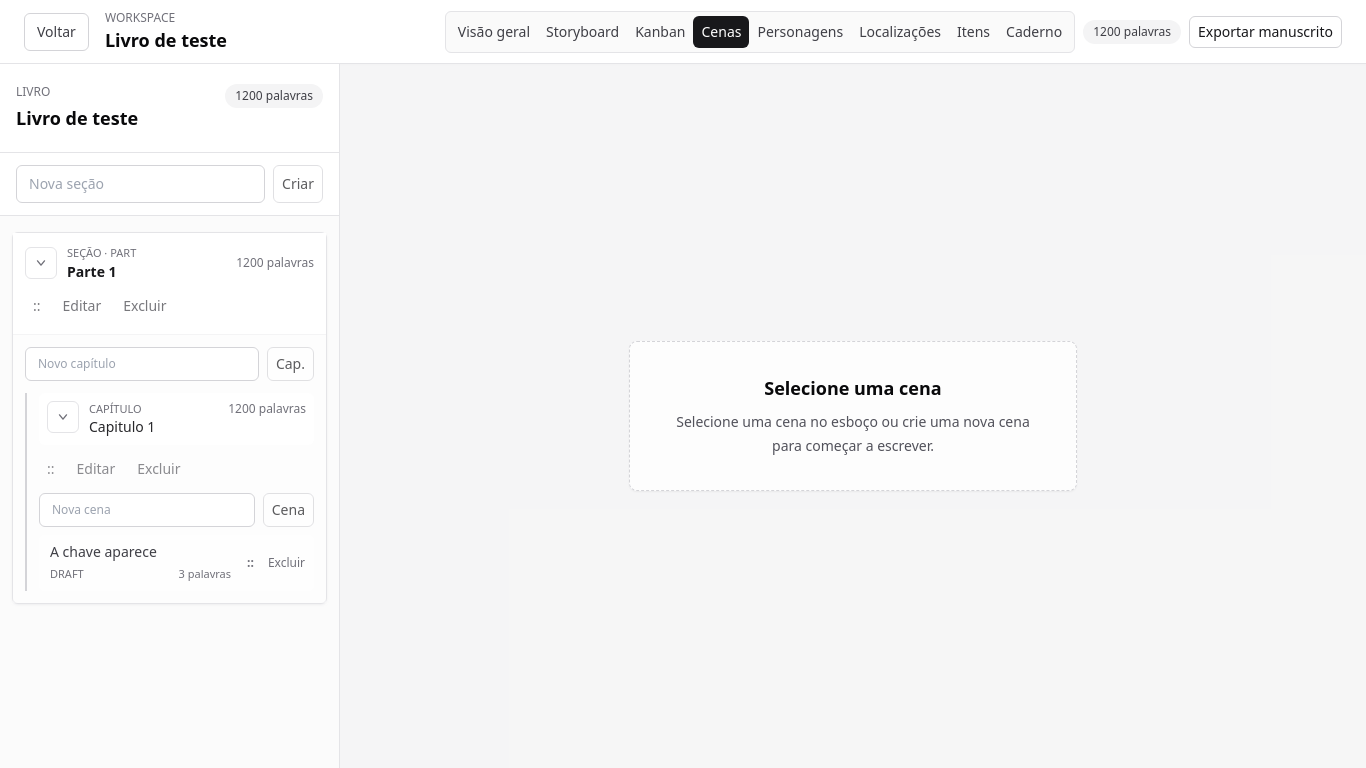
it: BookWorkspace focus mode › oculta o outline no foco e restaura mantendo a cena selecionada
The width and height of the screenshot is (1366, 768).
Expected: the text "Livro" is shown, [16,83,50,100]
Click the button "A chave aparece DRAFT 3 palavras".
click(140, 563)  # box [40,536,241,590]
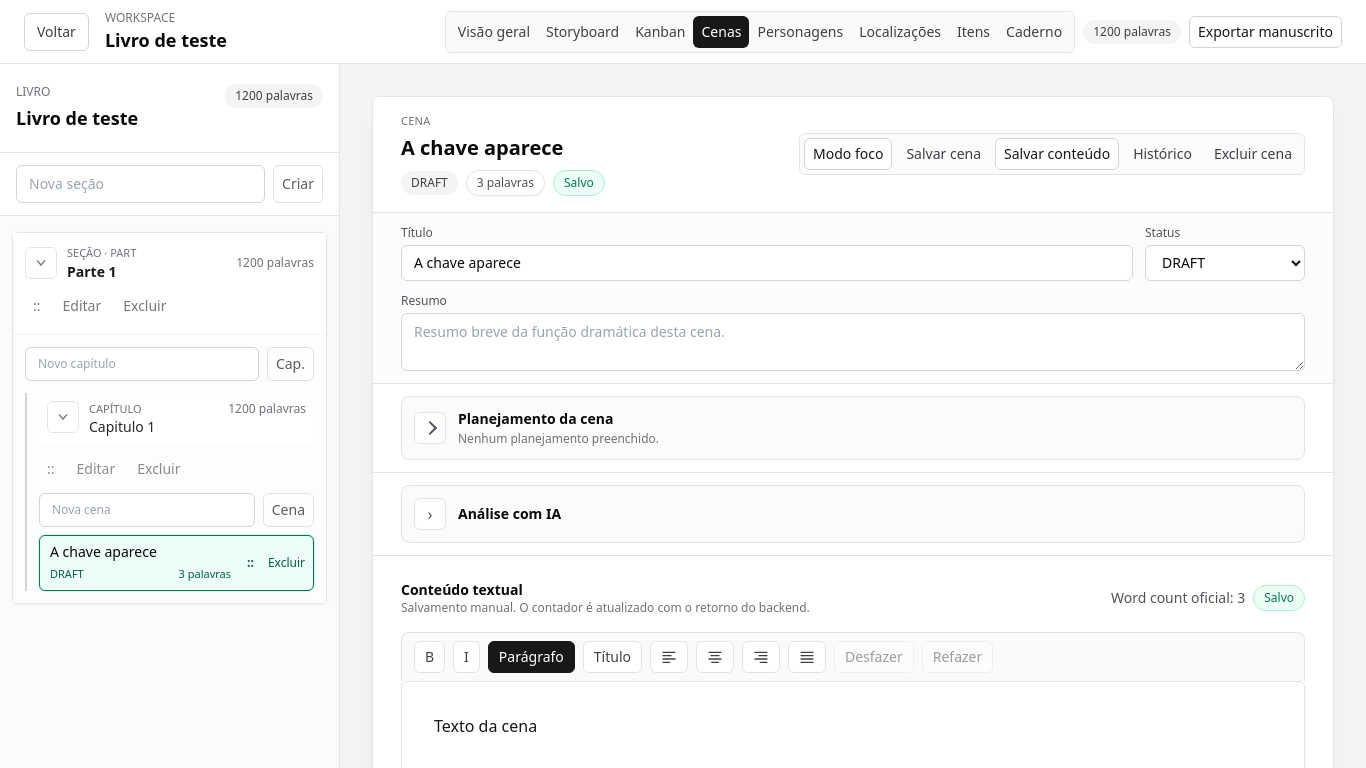
Now the heading "A chave aparece" is shown, box [401,134,563,160]
Now the 1st text "Salvo" is shown, box [553,170,605,196]
Now the button "Salvar conteúdo" is shown, box [995,138,1119,170]
Click the button "Modo foco".
click(848, 154)  # box [804,138,892,170]
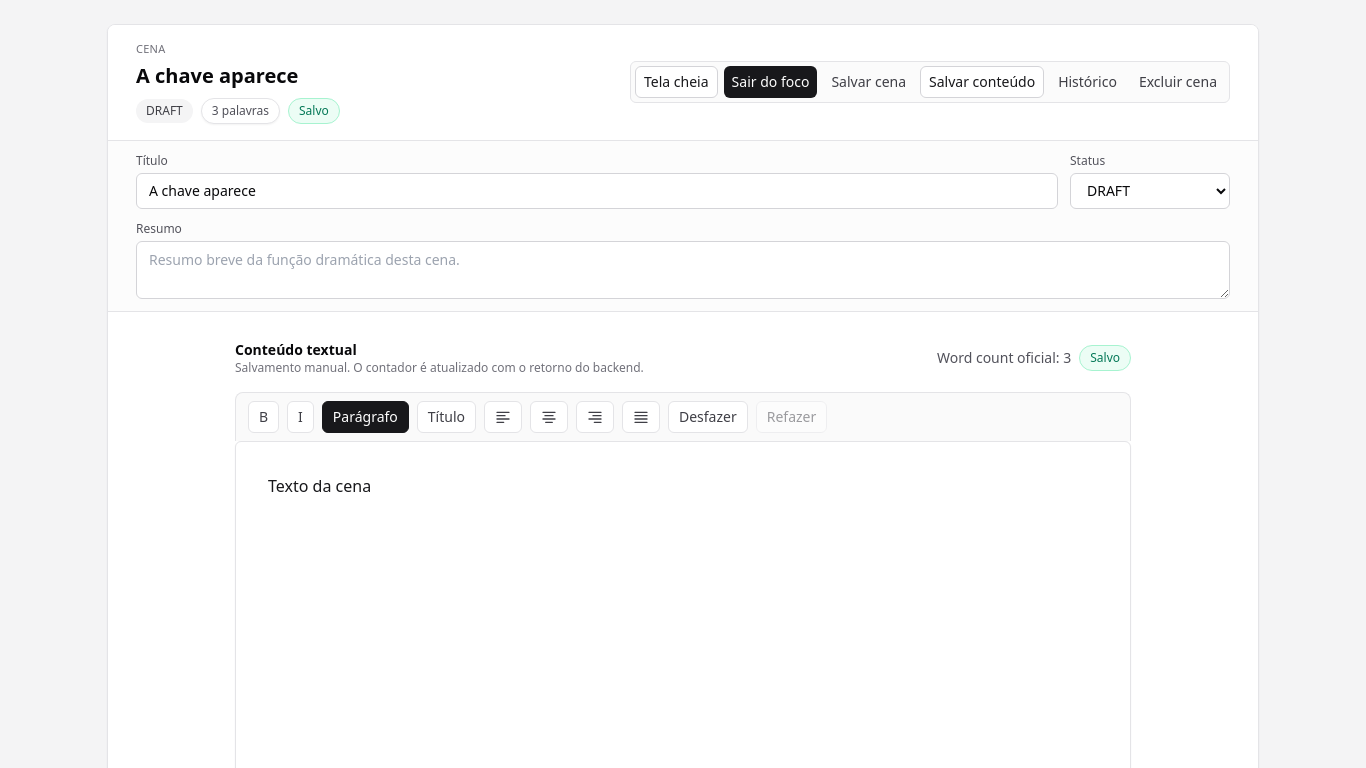
Now the heading "A chave aparece" is shown, box [136,62,298,88]
Now the text "Salvo" next to "palavras" is shown, box [299,102,329,118]
Now the heading "Livro" is gone
Click the button "Sair do foco".
click(770, 82)  # box [724,66,817,98]
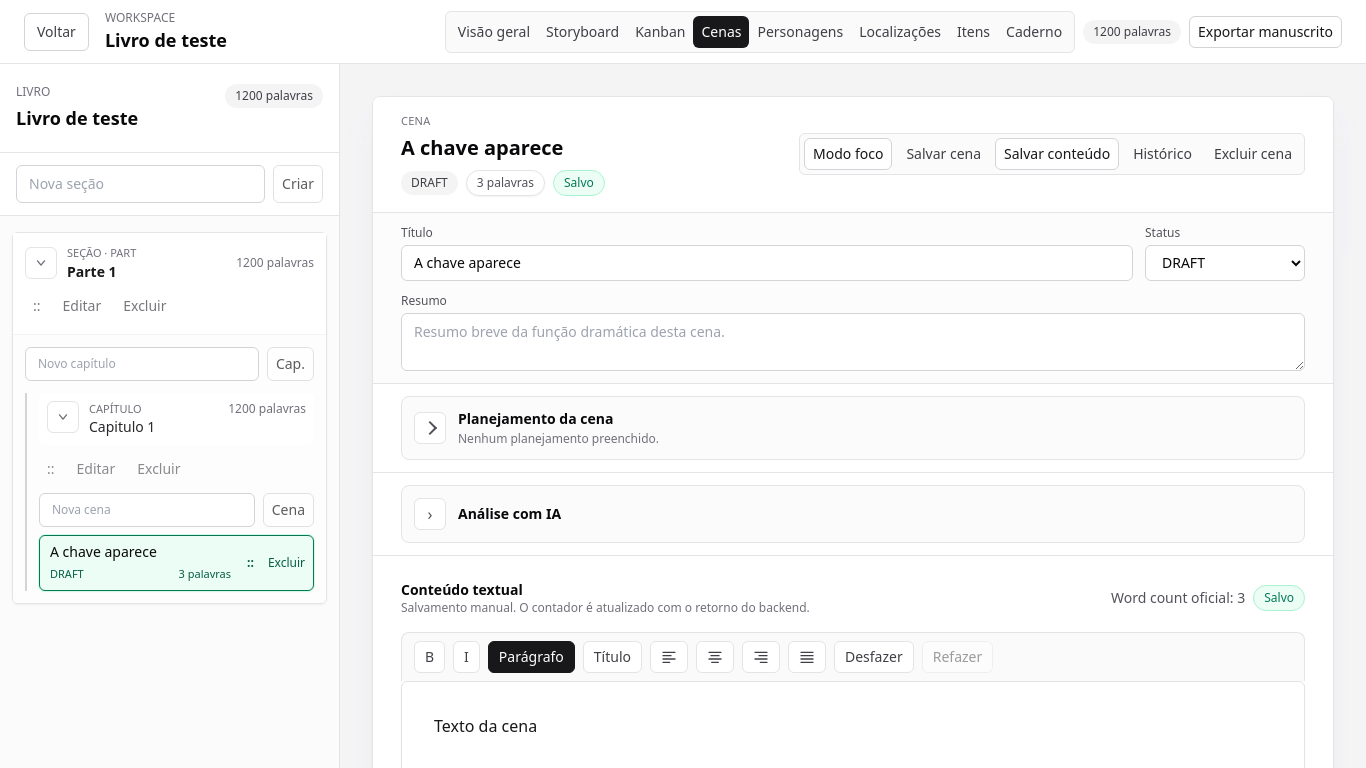
Now the heading "A chave aparece" is shown, box [401,134,563,160]
Now the text "Livro" is shown, box [16,83,50,100]
Now the button "Modo foco" is shown, box [804,138,892,170]
